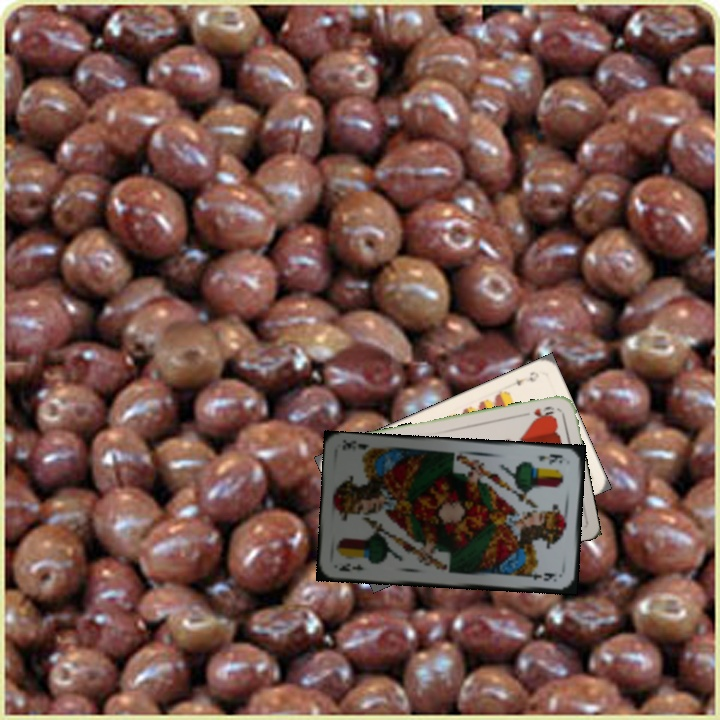E9: (512, 367, 542, 389)
EK: (535, 450, 565, 467), (335, 559, 366, 575)
HO: (528, 402, 557, 423)
